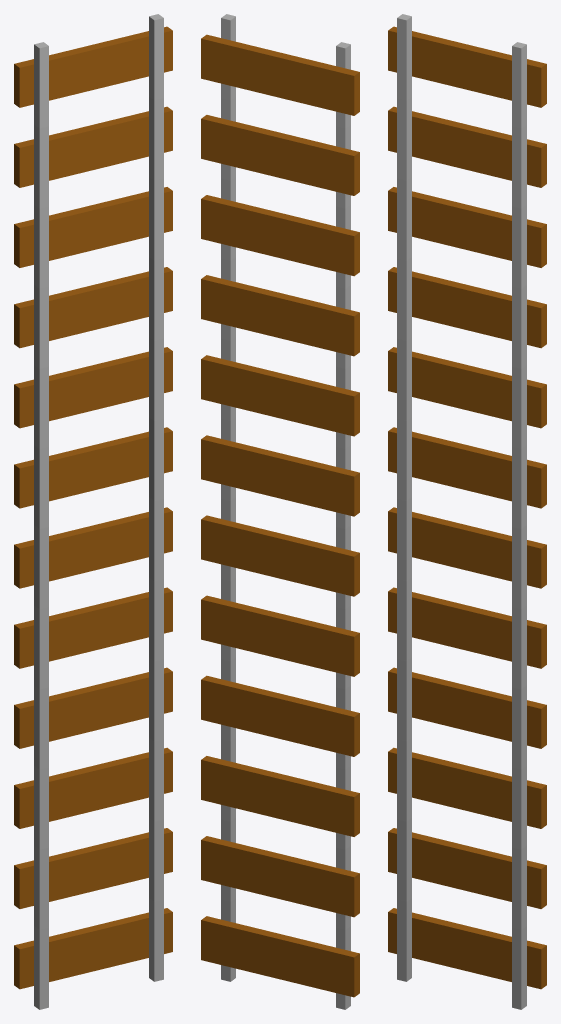
File: Track12x.obj
3 renders of one model, left to right at view 1: azimuth 30°, elevation 25°; view 2: azimuth 150°, elevation 25°; view 3: azimuth 330°, elevation 25°, orthographic.
Visible parts, largest first — view 1: mesh0, mesh2, mesh19, mesh12, mesh14, mesh1, mesh18, mesh8, mesh11; view 2: mesh10, mesh12, mesh11, mesh18, mesh1, mesh5, mesh20, mesh3, mesh15; view 3: mesh0, mesh2, mesh19, mesh12, mesh8, mesh7, mesh17, mesh14, mesh9.
Boxes of the visible parts, x1,y1,x2,y2 form: mesh0: [49, 36, 148, 981]; mesh2: [154, 18, 163, 981]; mesh19: [39, 46, 48, 1009]; mesh12: [14, 26, 172, 949]; mesh14: [19, 64, 33, 989]; mesh1: [149, 16, 154, 981]; mesh18: [34, 44, 39, 1009]; mesh8: [164, 30, 172, 953]; mesh11: [14, 64, 19, 988]; mesh10: [201, 38, 354, 997]; mesh12: [201, 34, 359, 957]; mesh11: [354, 72, 359, 996]; mesh18: [345, 44, 350, 1009]; mesh1: [230, 16, 235, 981]; mesh5: [221, 18, 230, 921]; mesh20: [336, 46, 345, 949]; mesh3: [221, 83, 230, 981]; mesh15: [336, 111, 345, 1009]; mesh0: [412, 36, 511, 981]; mesh2: [512, 46, 521, 1009]; mesh19: [397, 18, 406, 981]; mesh12: [388, 26, 546, 949]; mesh8: [527, 64, 541, 989]; mesh7: [521, 44, 526, 1009]; mesh17: [406, 16, 411, 981]; mesh14: [388, 30, 396, 953]; mesh9: [541, 64, 546, 988].
Bounding box in the file's own units: 0.032 × 0.192 × 0.004.
